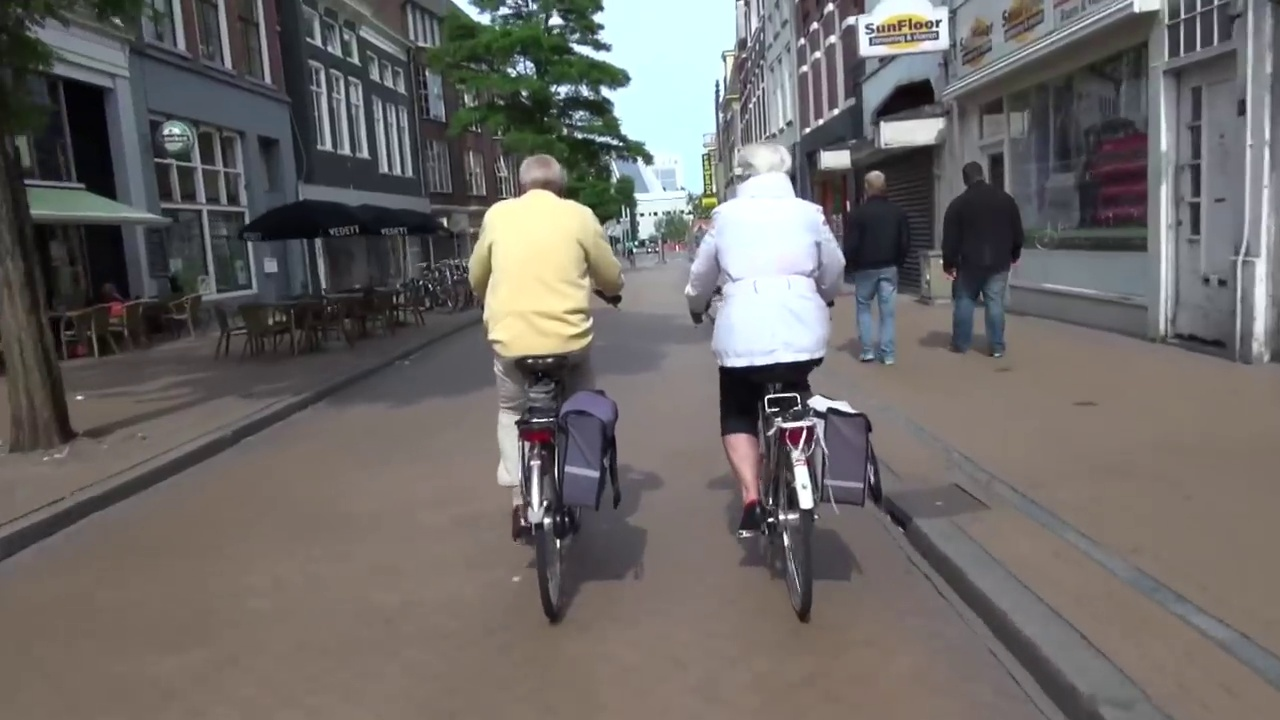cyclist_back: (672, 138, 882, 637), (460, 151, 638, 626)
